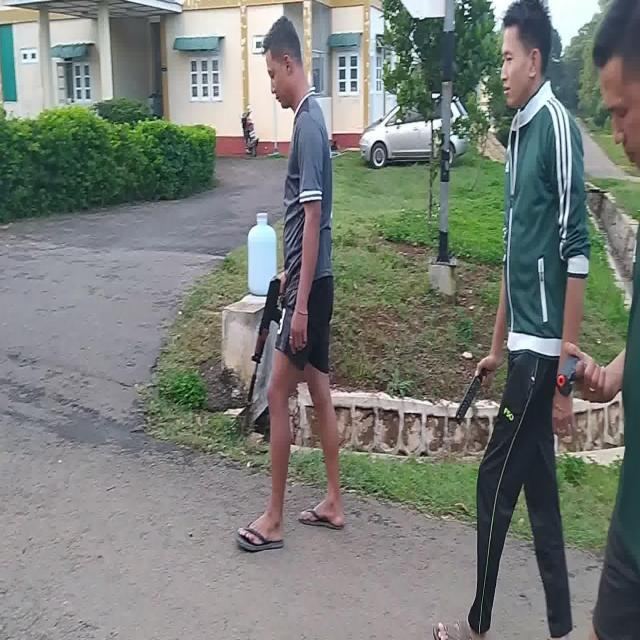gun: (247, 278, 282, 400), (556, 354, 582, 384)
